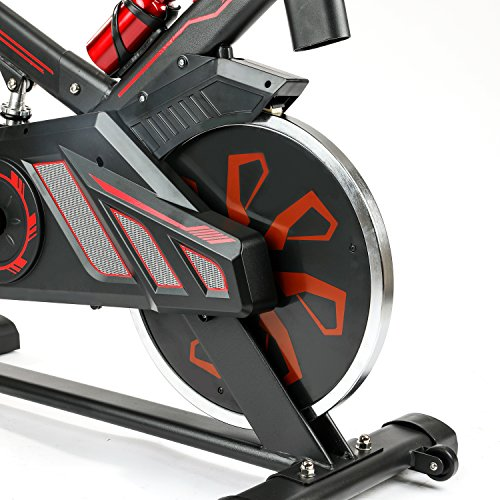gym_bike: (10, 1, 458, 494)
